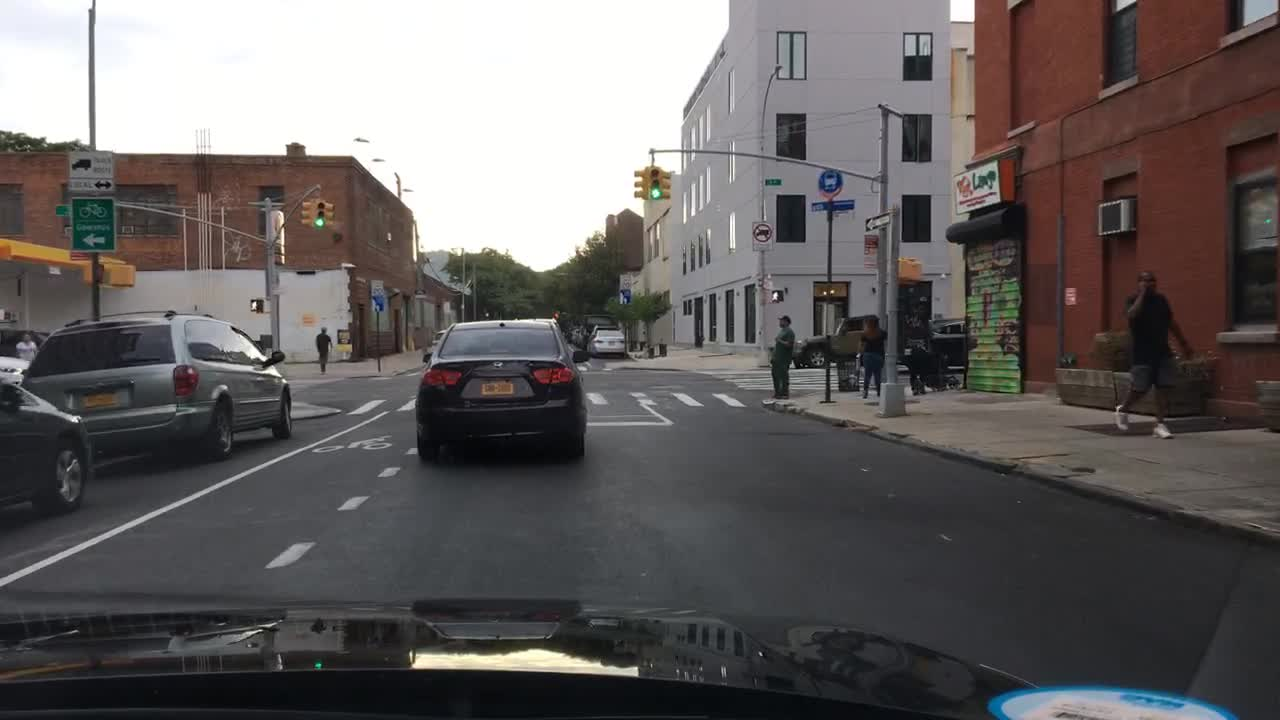car: (19, 311, 293, 462), (414, 320, 591, 456), (2, 376, 92, 515), (791, 311, 904, 366), (903, 316, 967, 369), (0, 328, 44, 361), (586, 323, 617, 356), (581, 315, 613, 345), (591, 331, 626, 356), (0, 356, 27, 386), (425, 330, 442, 356), (566, 331, 583, 344)
person: (1111, 269, 1192, 441), (766, 314, 796, 400), (857, 314, 885, 405), (314, 324, 333, 375), (12, 333, 41, 361)
traffic light: (103, 263, 137, 286), (647, 167, 662, 202), (632, 169, 646, 202), (82, 262, 102, 284), (899, 259, 920, 279), (313, 200, 326, 227), (300, 199, 311, 225), (662, 170, 671, 200), (771, 288, 786, 303), (328, 202, 336, 227), (250, 298, 264, 311)
traffic sign: (72, 200, 113, 252), (68, 152, 117, 189), (814, 168, 842, 197), (751, 220, 772, 252), (811, 200, 852, 212), (863, 212, 890, 230), (863, 235, 877, 269), (371, 296, 384, 313), (370, 278, 383, 293), (617, 291, 630, 306), (621, 273, 632, 290), (54, 204, 72, 214), (762, 178, 781, 187), (63, 224, 72, 237)
